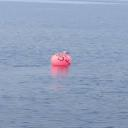red: (51, 53, 72, 66)
